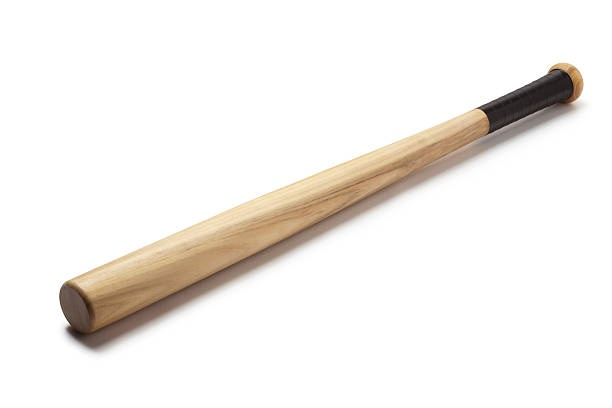bita: (56, 71, 577, 336)
